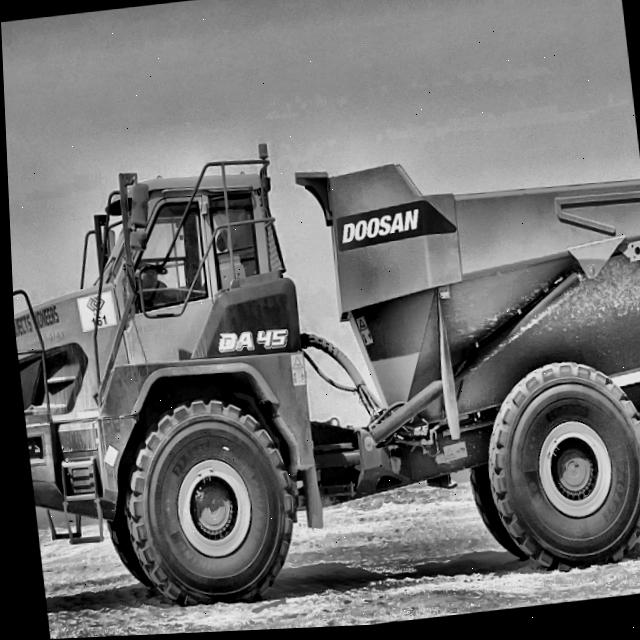dump_truck: (4, 98, 640, 640)
